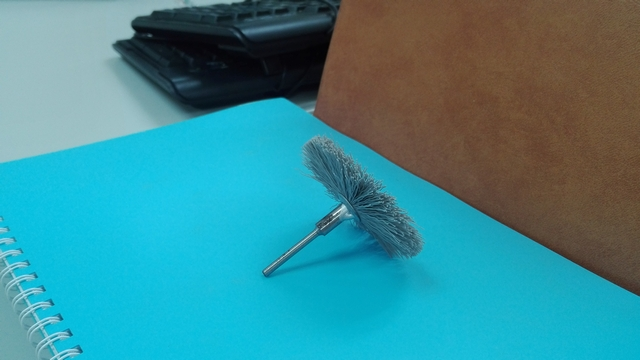TOOL: (249, 111, 513, 297), (240, 126, 432, 284)
